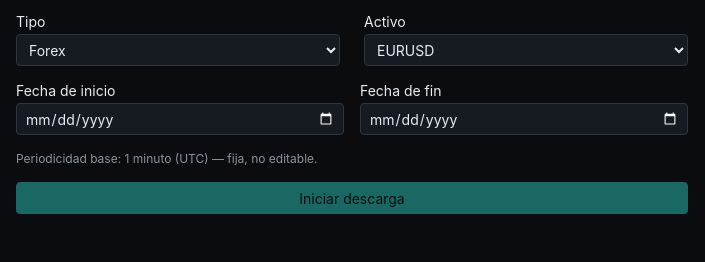
DownloadForm (SCR-002) › keeps submit disabled until the range is complete
The image size is (705, 262).
Check: the button "Iniciar descarga" is disabled, box [16,182,688,214]
Type "2026-01-01" into the date field labelled "Fecha de inicio" at (180, 119), box [16,103,344,135]
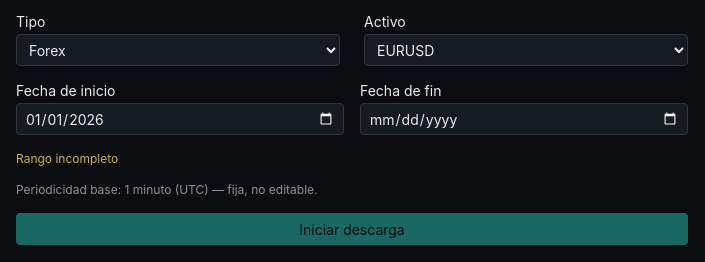
Type "2026-08-31" into the date field labelled "Fecha de fin" at (524, 119), box [360,103,688,135]
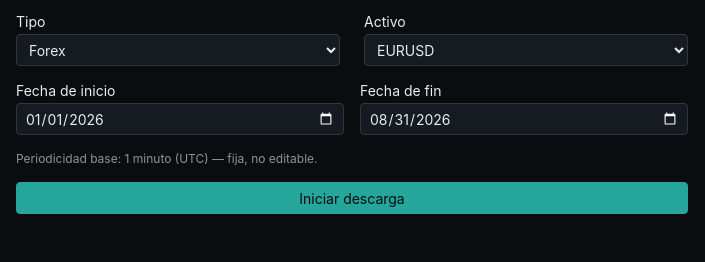
Check: the button "Iniciar descarga" is enabled, box [16,182,688,214]
